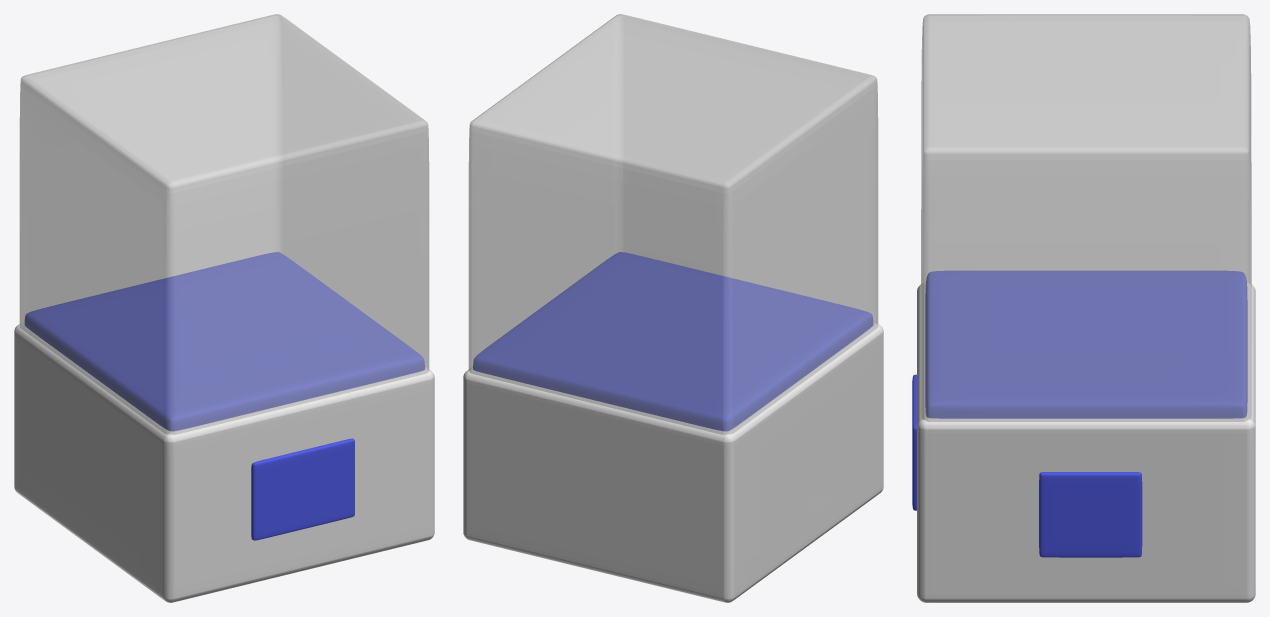
Rendered from waterTank.glb.
3 renders of one model, left to right at view 1: azimuth 30°, elevation 25°; view 2: azimuth 150°, elevation 25°; view 3: azimuth 270°, elevation 25°, orthographic. The views are drawn at different scales.
Visible parts, largest first — view 1: window, box, extrudes; view 2: window, box, extrudes; view 3: window, extrudes, box.
Boxes of the visible parts, x1,y1,x2,y2 form: window: (19, 14, 429, 434); box: (14, 323, 434, 602); extrudes: (24, 252, 424, 540); window: (468, 14, 878, 434); box: (463, 323, 883, 602); extrudes: (473, 252, 873, 431); window: (921, 14, 1251, 421); extrudes: (912, 270, 1247, 557); box: (917, 282, 1255, 602).
Size of the model in its own units: 0.9135 by 1.33 by 0.9125.
